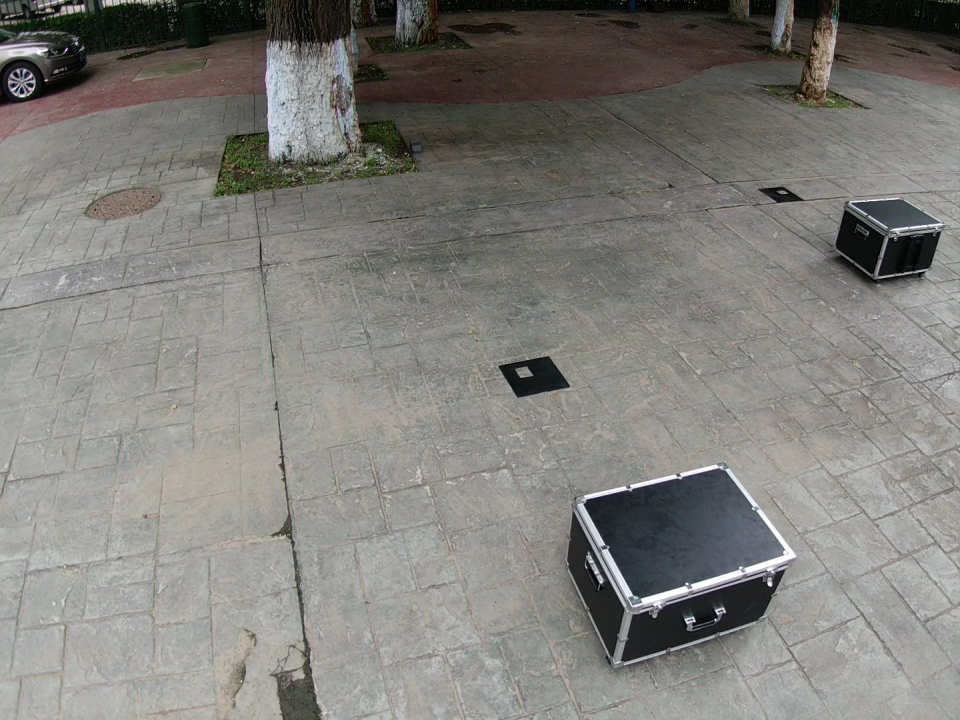box: (564, 462, 796, 669), (834, 197, 945, 280)
qrcode: (498, 356, 571, 397), (756, 186, 804, 203)
